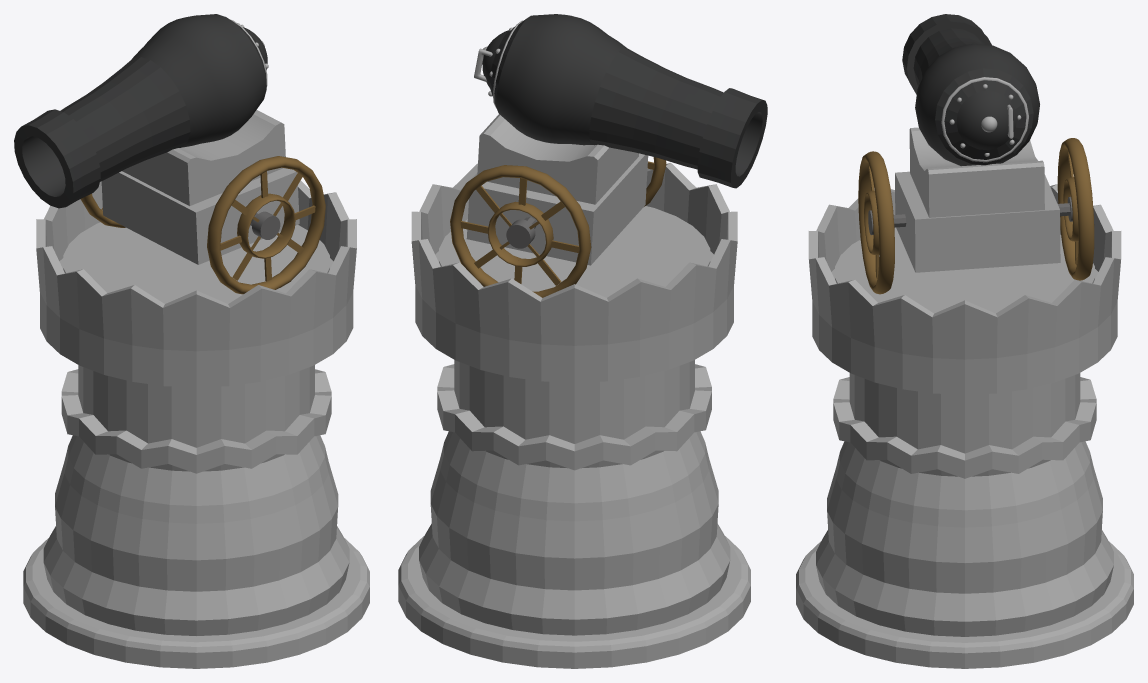
Rendered from Cannon_-X.fbx.
3 renders of one model, left to right at view 1: azimuth 30°, elevation 25°; view 2: azimuth 150°, elevation 25°; view 3: azimuth 270°, elevation 25°, orthographic. The views are drawn at different scales.
Visible parts, largest first — view 1: pCylinder4, pCube56, pCylinder5; view 2: pCylinder4, pCube56, pCylinder5; view 3: pCylinder4, pCube56, pCylinder5.
Part boxes in pixels (x1,y1,x2,y2): pCylinder4: (23, 180, 369, 668); pCube56: (14, 14, 325, 294); pCylinder5: (63, 222, 329, 303); pCylinder4: (398, 163, 750, 668); pCube56: (450, 14, 767, 297); pCylinder5: (439, 206, 710, 297); pCylinder4: (796, 184, 1133, 668); pCube56: (858, 14, 1094, 294); pCylinder5: (835, 227, 1094, 313).
Size of the model in its own units: 378 by 635 by 352.
